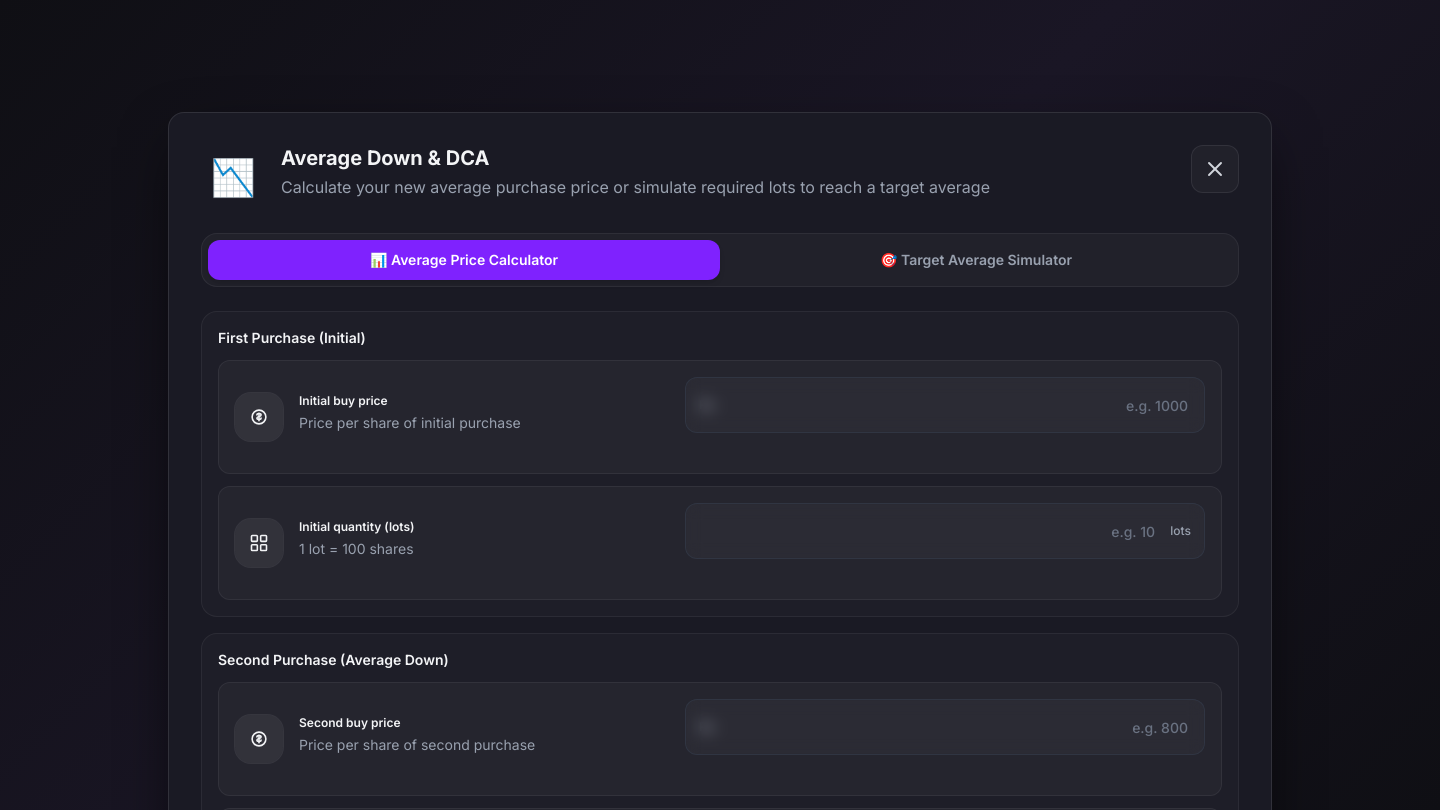
AverageDown page › switches to target simulator and calculates required lots
The width and height of the screenshot is (1440, 810).
Click the button "🎯 Target Average Simulator" at (976, 260), box x1=720 y1=240 x2=1232 y2=280
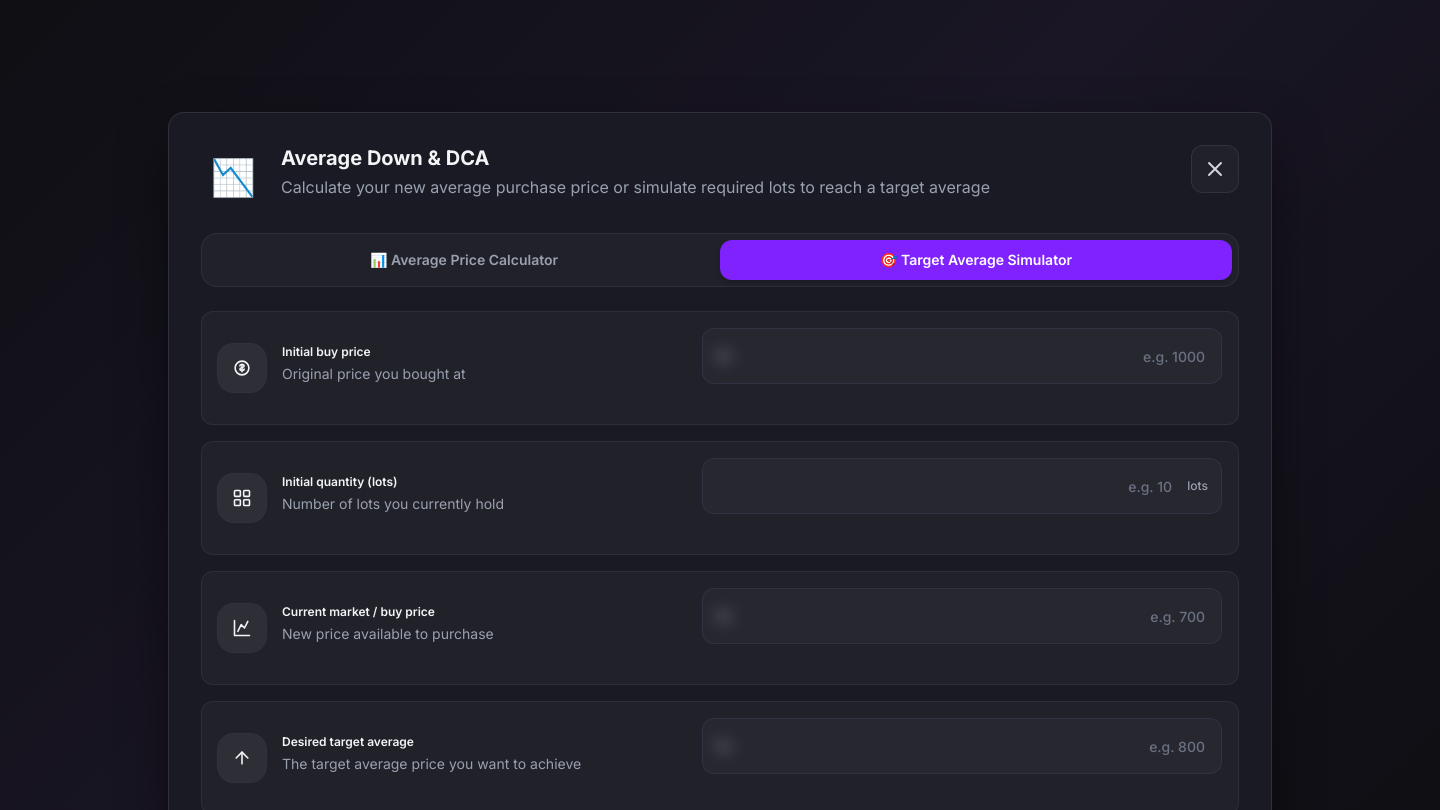
Type "1000" into the field labelled "Initial buy price" at (962, 356), box x1=702 y1=328 x2=1222 y2=384
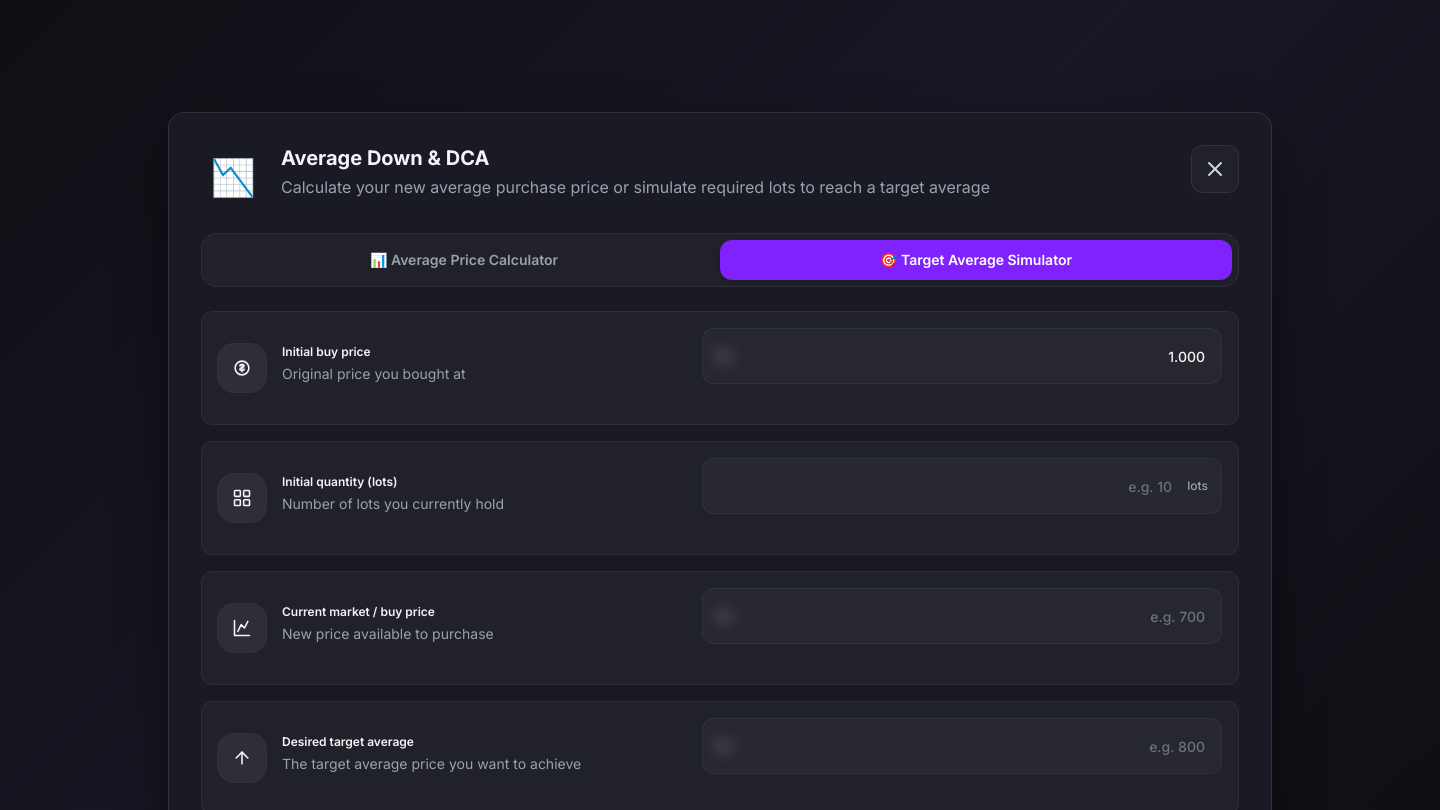
Type "10" into the field labelled "Initial quantity (lots)" at (962, 486), box x1=702 y1=458 x2=1222 y2=514
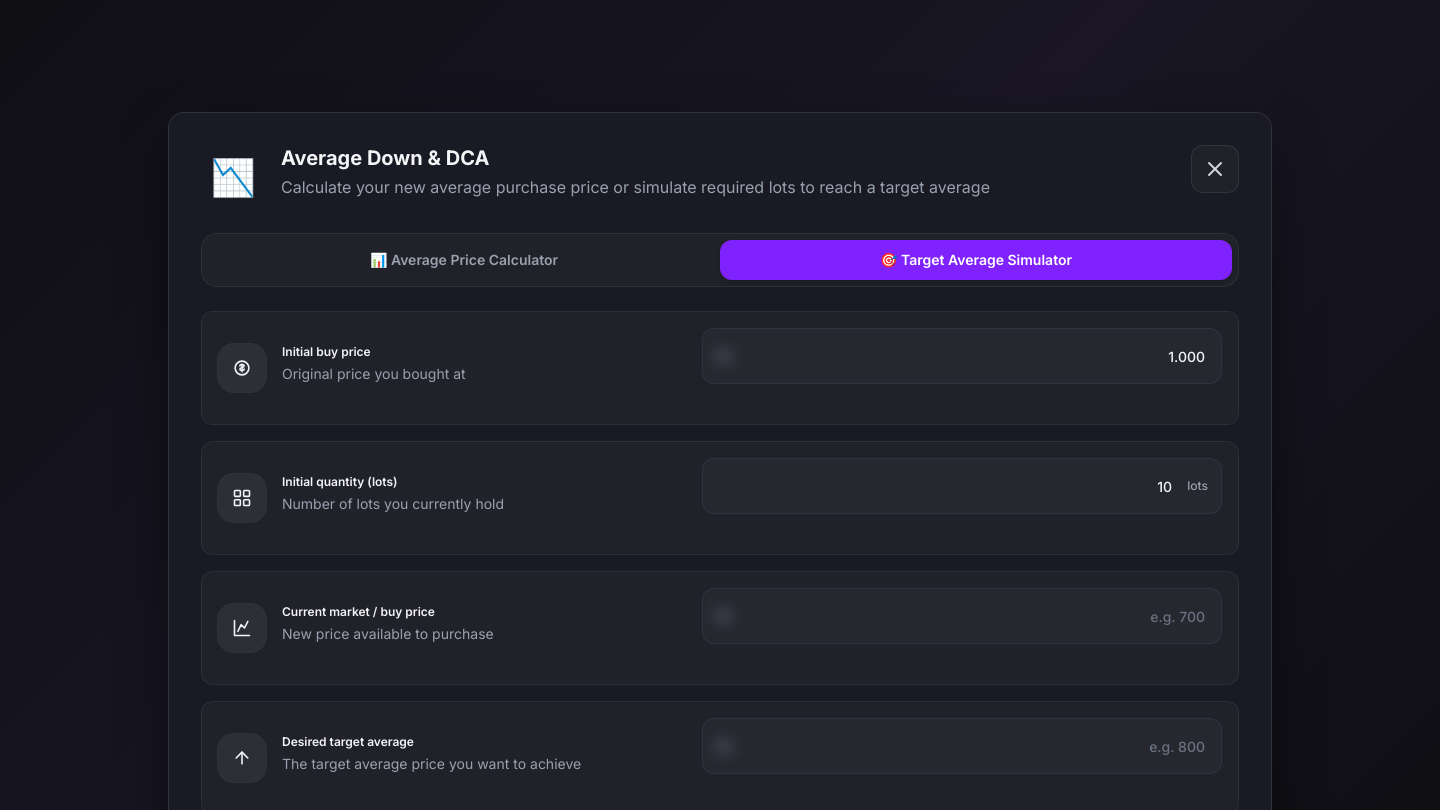
Type "600" into the field labelled "Current market / buy price" at (962, 616), box x1=702 y1=588 x2=1222 y2=644
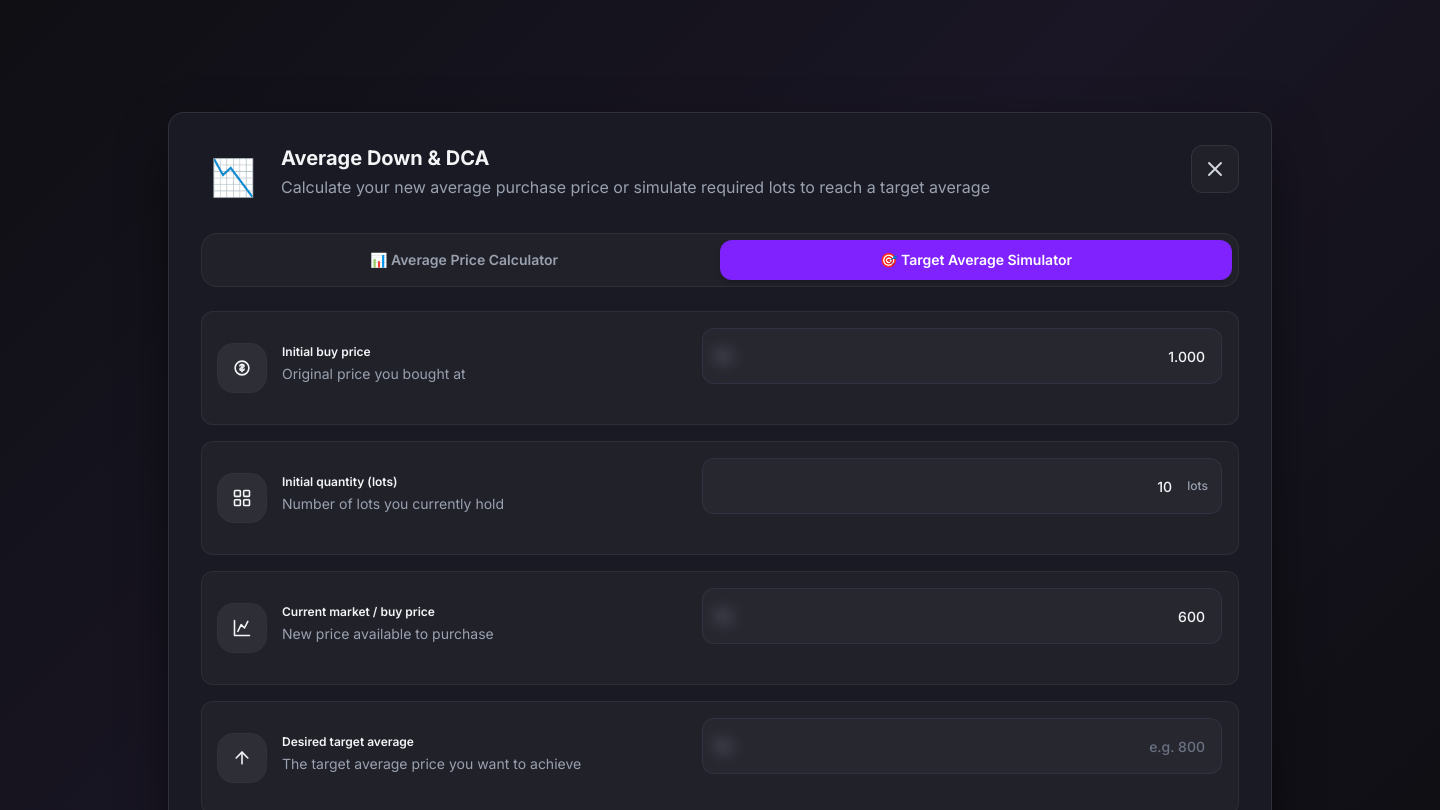
Type "800" into the field labelled "Desired target average" at (962, 746), box x1=702 y1=718 x2=1222 y2=774
(page scrolled)
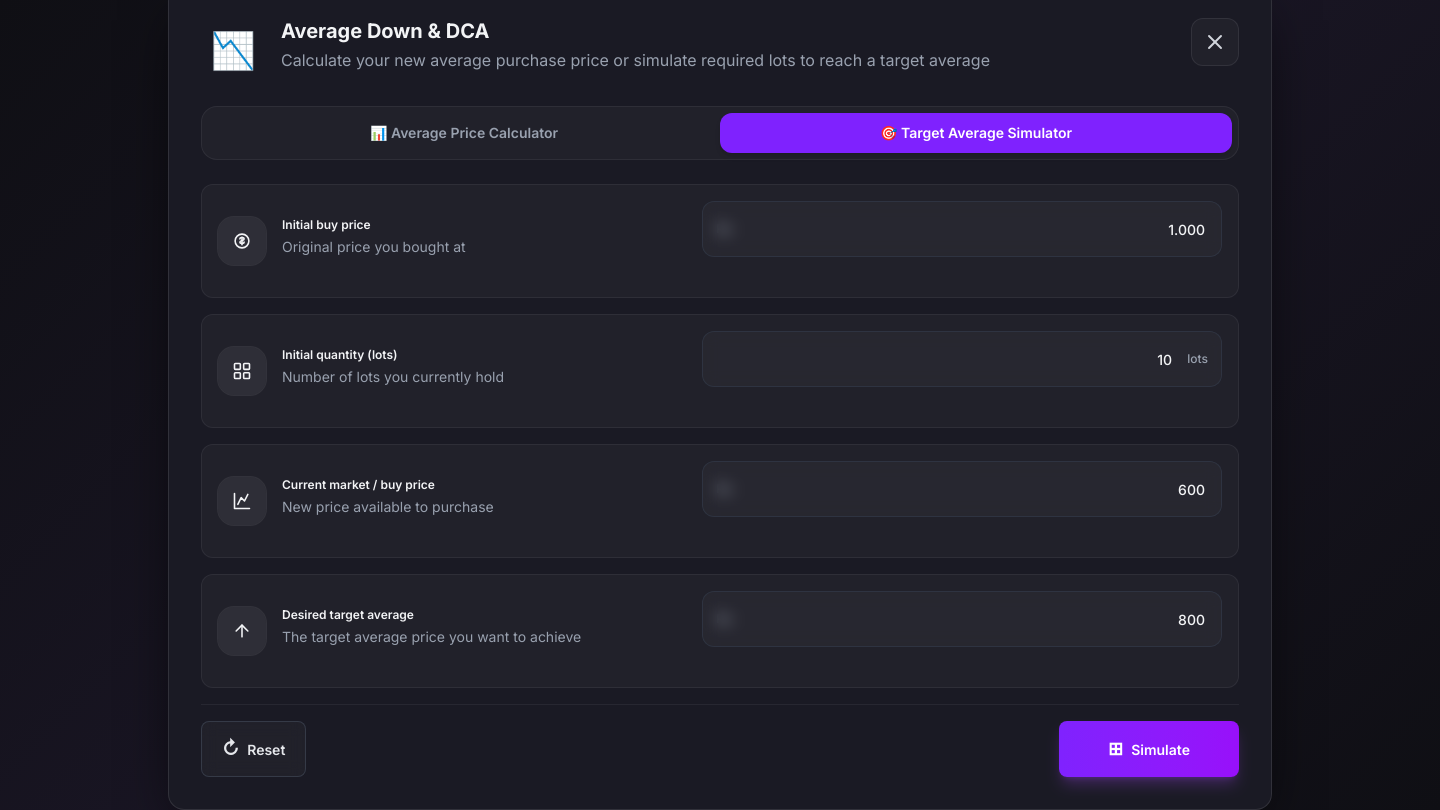
Click the button "⊞ Simulate" at (1149, 749), box x1=1059 y1=721 x2=1239 y2=777
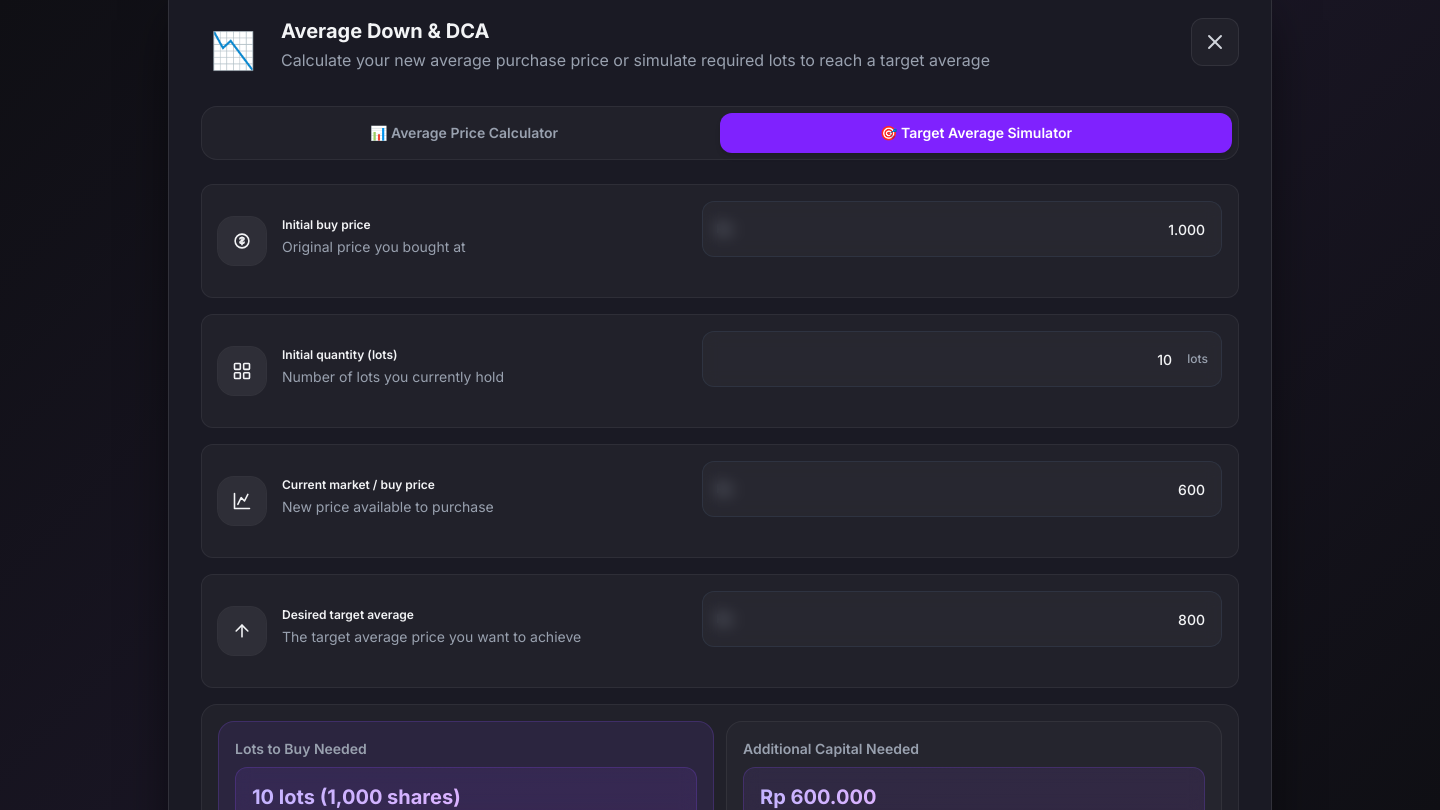
Check: the text "10 lots (1,000 shares)" is shown, box x1=252 y1=785 x2=461 y2=809
Check: the text "Rp 600.000" is shown, box x1=760 y1=785 x2=876 y2=809
